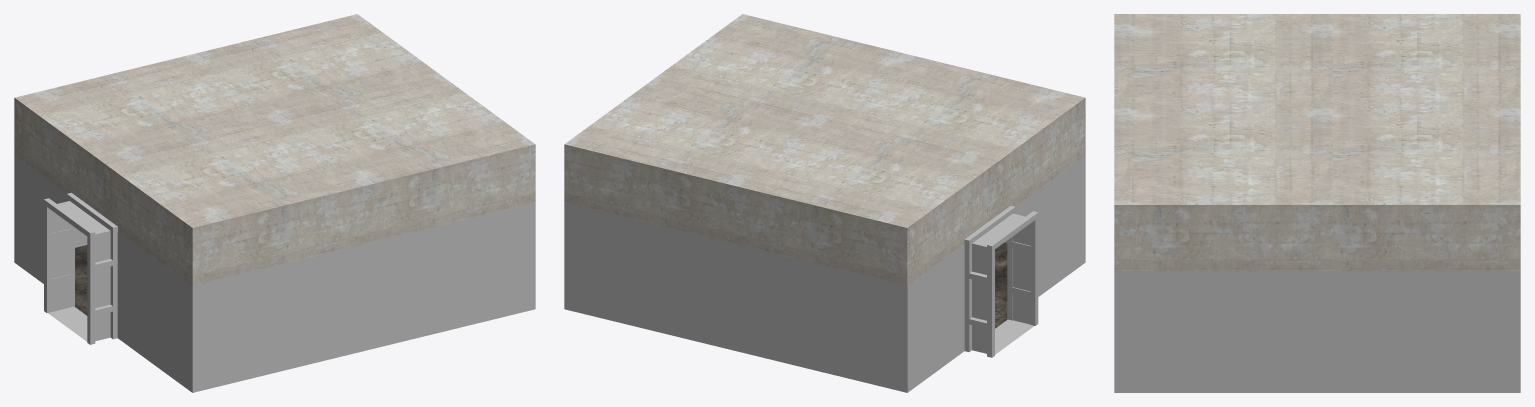
File: Tech_room_empty.FBX
3 views of the same model, side by side, from view 1: azimuth 30°, elevation 25°; view 2: azimuth 150°, elevation 25°; view 3: azimuth 270°, elevation 25° (orthographic). The views are drawn at different scales.
Parts seen in each view (by area): view 1: Tech_room_cell, Tech_room_wall, Door_plank, Tech_room_floor; view 2: Tech_room_cell, Tech_room_wall, Door_plank, Tech_room_floor; view 3: Tech_room_cell, Tech_room_wall.
Boxes of the visible parts, x1=… form: Tech_room_cell: x1=14, y1=14, x2=535, y2=286; Tech_room_wall: x1=14, y1=156, x2=535, y2=392; Door_plank: x1=44, y1=192, x2=117, y2=344; Tech_room_floor: x1=74, y1=245, x2=87, y2=315; Tech_room_cell: x1=564, y1=14, x2=1085, y2=286; Tech_room_wall: x1=564, y1=156, x2=1085, y2=392; Door_plank: x1=964, y1=205, x2=1038, y2=357; Tech_room_floor: x1=995, y1=243, x2=1007, y2=328; Tech_room_cell: x1=1114, y1=14, x2=1520, y2=271; Tech_room_wall: x1=1114, y1=271, x2=1520, y2=392.
Size of the model in its own units: 872 by 371 by 726.
